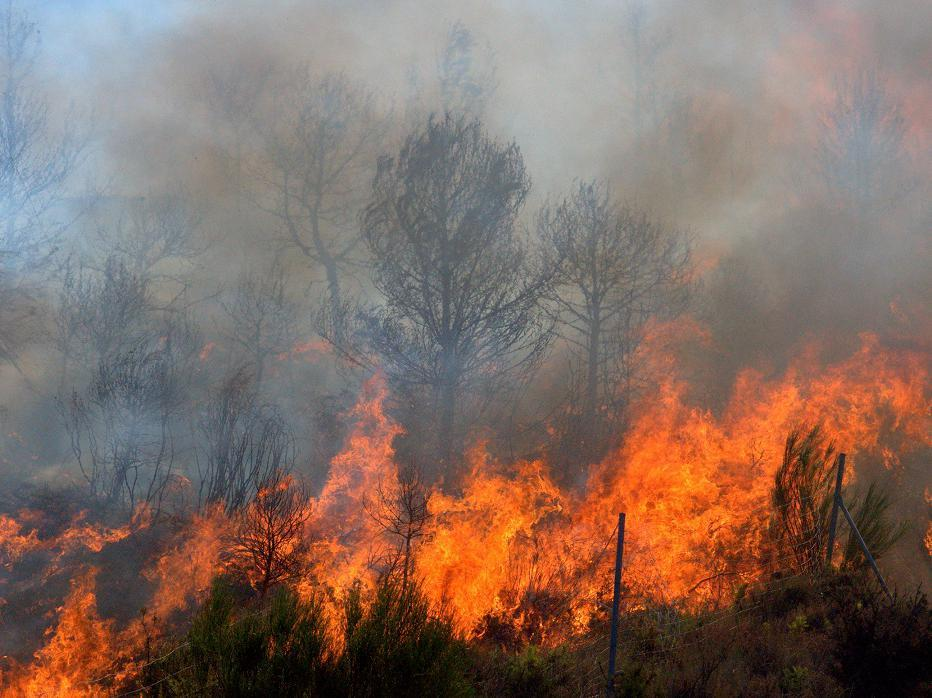Fire: (8, 325, 917, 694)
